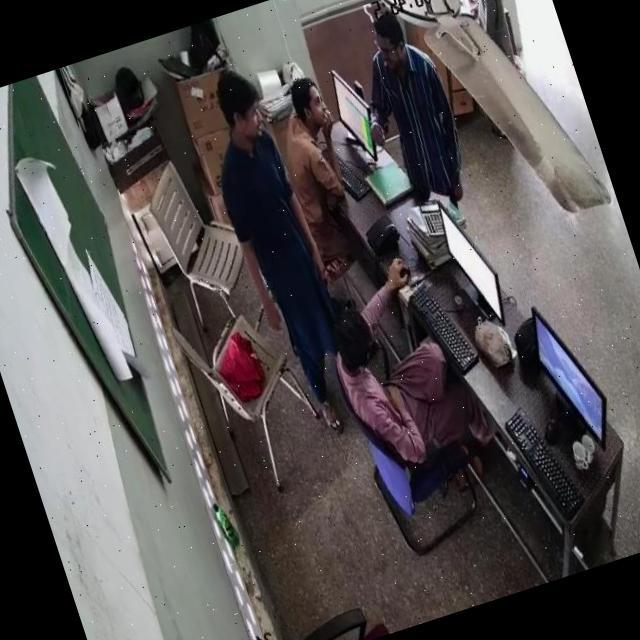person: (191, 66, 360, 428), (324, 284, 486, 478), (355, 2, 471, 202), (263, 70, 362, 232)
